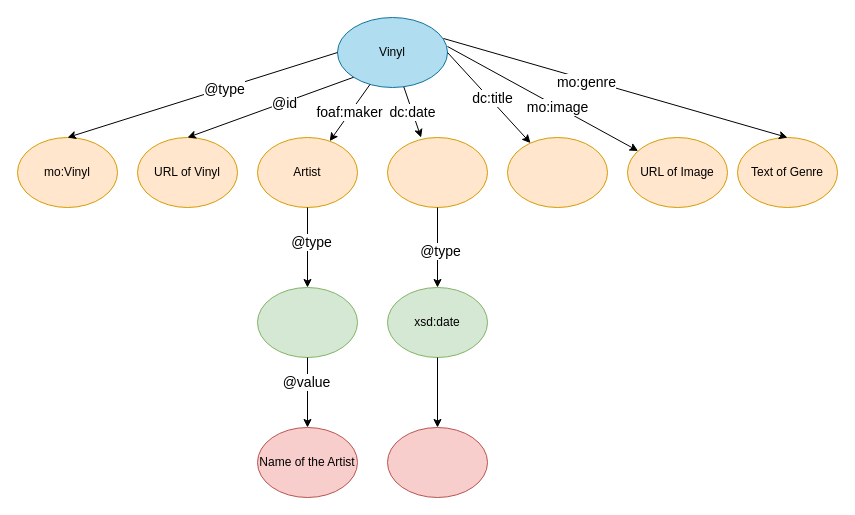
The diagram is 855 pixels wide and 515 high, and some of its shapes have lost their labels. Here are the shapes that lost their labels. From the top down, the centre of each, then its label:
(x=437, y=172): Release Date
(x=557, y=172): Text of Vinyl
(x=307, y=322): mo:MusicArtist
(x=437, y=462): Date
